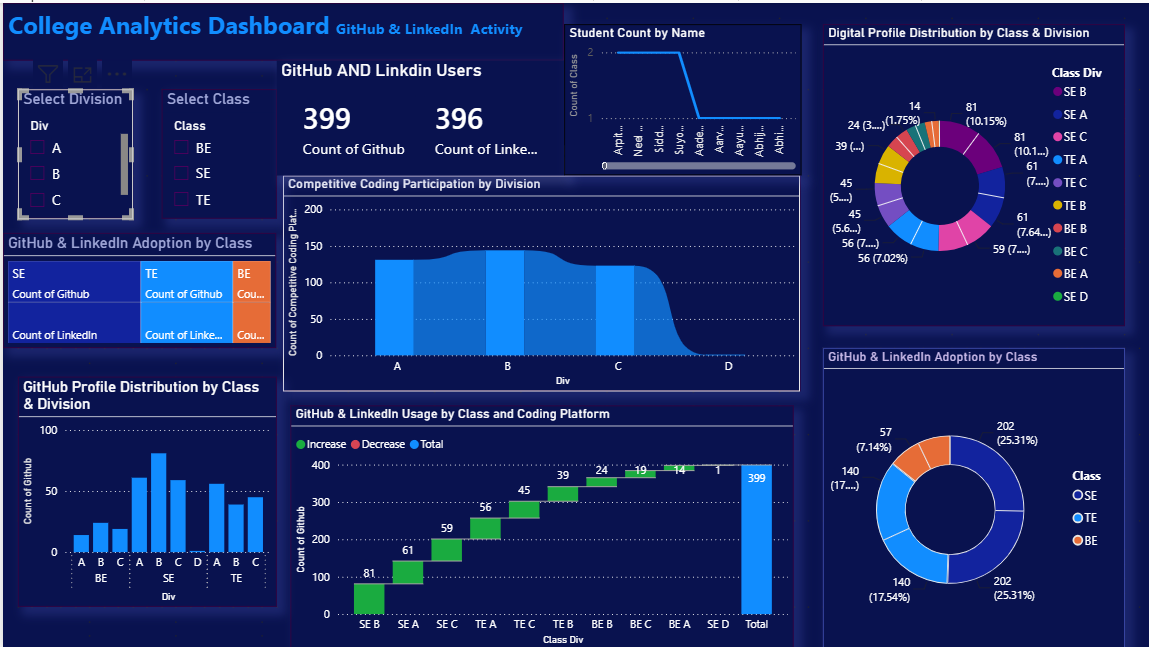

This screenshot's page, from the dashboard's own definition file:
{"tool":"powerbi","page":{"name":"Page 1","canvas":[1280,720],"ordinal":0},"visuals":[{"type":"ribbonChart","title":"Competitive Coding Participation by Division","fields":{"Category":["Form Responses 1.Div","Form Responses 1.Class","Form Responses 1.Date.Variation.Date Hierarchy.Year"],"Y":["CountNonNull(Form Responses 1.Competitive Coding Platform )"]},"box":[312,192,576,240],"z":0},{"type":"waterfallChart","title":"GitHub & LinkedIn Usage by Class and Coding Platform","fields":{"Category":["Form Responses 1.Class","Form Responses 1.Div","Form Responses 1.Competitive Coding Platform "],"Y":["CountNonNull(Form Responses 1.Github)"]},"box":[320,448,560,272],"z":1000},{"type":"donutChart","title":"GitHub & LinkedIn Adoption by Class","fields":{"Category":["Form Responses 1.Class"],"Y":["CountNonNull(Form Responses 1.Github)","CountNonNull(Form Responses 1.LinkedIn )"]},"box":[912,384,336,336],"z":2000},{"type":"clusteredColumnChart","title":"GitHub Profile Distribution by Class & Division","fields":{"Category":["Form Responses 1.Class","Form Responses 1.Div"],"Y":["CountNonNull(Form Responses 1.Github)"]},"box":[16,416,288,256],"z":3000},{"type":"slicer","title":"Select Class","fields":{"Values":["Form Responses 1.Class"]},"box":[176,96,128,144],"z":4000},{"type":"donutChart","title":"Digital Profile Distribution by Class & Division","fields":{"Category":["Form Responses 1.Class","Form Responses 1.Div"],"Y":["CountNonNull(Form Responses 1.Github)","CountNonNull(Form Responses 1.LinkedIn )"]},"box":[912,24,336,336],"z":5000},{"type":"textbox","box":[0,0,624,64],"z":6000},{"type":"treemap","title":"GitHub & LinkedIn Adoption by Class","fields":{"Group":["Form Responses 1.Class"],"Values":["CountNonNull(Form Responses 1.Github)","CountNonNull(Form Responses 1.LinkedIn )"]},"box":[0,256,304,128],"z":7000},{"type":"cardVisual","title":"GitHub AND Linkdin Users","fields":{"Data":["CountNonNull(Form Responses 1.Github)","Count(Form Responses 1.LinkedIn )"]},"box":[304,64,320,128],"z":8000},{"type":"slicer","title":"Select Division","fields":{"Values":["Form Responses 1.Div"]},"box":[16,96,128,144],"z":9000},{"type":"lineChart","title":"Student Count by Name","fields":{"Category":["Form Responses 1.Name"],"Y":["CountNonNull(Form Responses 1.Class)"]},"box":[624,24,264,168],"z":10000}]}

Visuals, with their boxes in screenshot pixels (x1, y1, x2, y2), scaled from the page's 1280x720 canvas onto the 1149x647 screenshot:
"Competitive Coding Participation by Division" ribbonChart: box(280, 173, 797, 388)
"GitHub & LinkedIn Usage by Class and Coding Platform" waterfallChart: box(287, 403, 790, 646)
"GitHub & LinkedIn Adoption by Class" donutChart: box(819, 345, 1120, 646)
"GitHub Profile Distribution by Class & Division" clusteredColumnChart: box(14, 374, 273, 604)
"Select Class" slicer: box(158, 86, 273, 216)
"Digital Profile Distribution by Class & Division" donutChart: box(819, 22, 1120, 324)
textbox: box(0, 0, 560, 58)
"GitHub & LinkedIn Adoption by Class" treemap: box(0, 230, 273, 345)
"GitHub AND Linkdin Users" cardVisual: box(273, 58, 560, 173)
"Select Division" slicer: box(14, 86, 129, 216)
"Student Count by Name" lineChart: box(560, 22, 797, 173)
